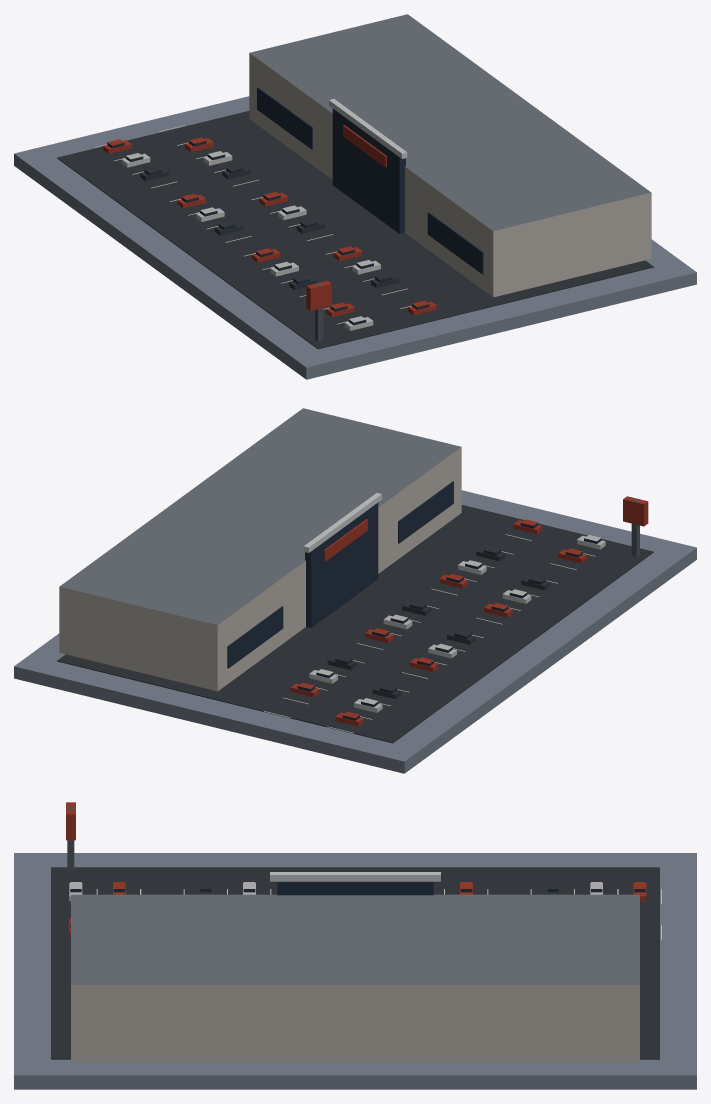
The model's file is shopping_centre.glb.
3 views of the same model, one above another, from view 1: azimuth 30°, elevation 25°; view 2: azimuth 150°, elevation 25°; view 3: azimuth 270°, elevation 25° (orthographic). The views are drawn at different scales.
Visible parts, largest first — view 1: shopping_centre; view 2: shopping_centre; view 3: shopping_centre.
Boxes of the visible parts, x1=… form: shopping_centre: x1=14, y1=14, x2=696, y2=379; shopping_centre: x1=14, y1=408, x2=696, y2=773; shopping_centre: x1=14, y1=802, x2=696, y2=1089.
Bounding box in the file's own units: 74 × 17.35 × 96.
